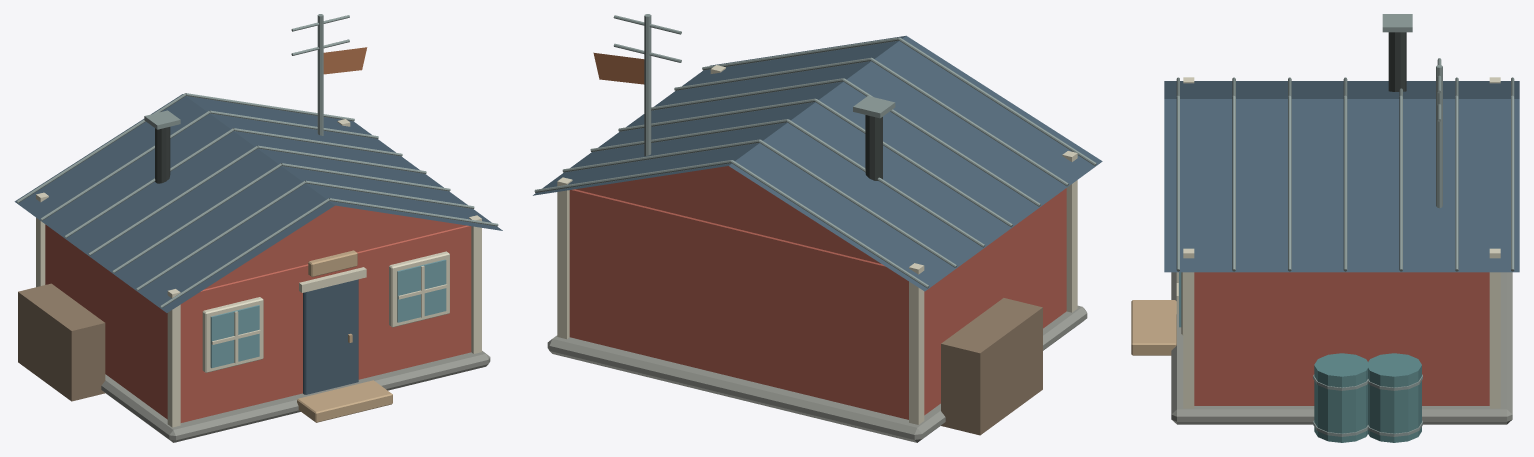
3 views of the same model, side by side, from view 1: azimuth 30°, elevation 25°; view 2: azimuth 150°, elevation 25°; view 3: azimuth 270°, elevation 25° (orthographic). The views are drawn at different scales.
Visible parts, largest first — view 1: HQ door, gable, antenna, door trim, wood store, foundation, window glass, door handle, signal flag, stove chimney; view 2: gable, HQ door, antenna, wood store, foundation, door trim, signal flag, stove chimney; view 3: HQ door, gable, rain barrel, antenna, foundation, door trim, door handle, stove chimney.
Part boxes in pixels (x1,y1,x2,y2): HQ door: [14, 94, 502, 394]; gable: [45, 205, 471, 422]; antenna: [16, 14, 498, 308]; door trim: [36, 119, 481, 427]; wood store: [18, 283, 105, 401]; foundation: [101, 351, 490, 442]; window glass: [210, 259, 446, 368]; door handle: [297, 250, 392, 422]; signal flag: [323, 47, 367, 74]; stove chimney: [155, 127, 170, 183]; gable: [569, 166, 1066, 419]; HQ door: [533, 35, 1102, 291]; antenna: [534, 14, 1096, 288]; wood store: [941, 298, 1042, 435]; foundation: [547, 305, 1087, 442]; door trim: [557, 65, 1077, 424]; signal flag: [593, 52, 644, 84]; stove chimney: [865, 115, 882, 180]; HQ door: [1164, 81, 1519, 272]; gable: [1194, 272, 1489, 405]; rain barrel: [1314, 353, 1421, 442]; antenna: [1176, 14, 1514, 436]; foundation: [1171, 272, 1512, 424]; door trim: [1176, 77, 1500, 408]; door handle: [1131, 300, 1176, 355]; stove chimney: [1388, 32, 1406, 91].
Size of the model in its own units: 7.39 by 5.2 by 5.57.
